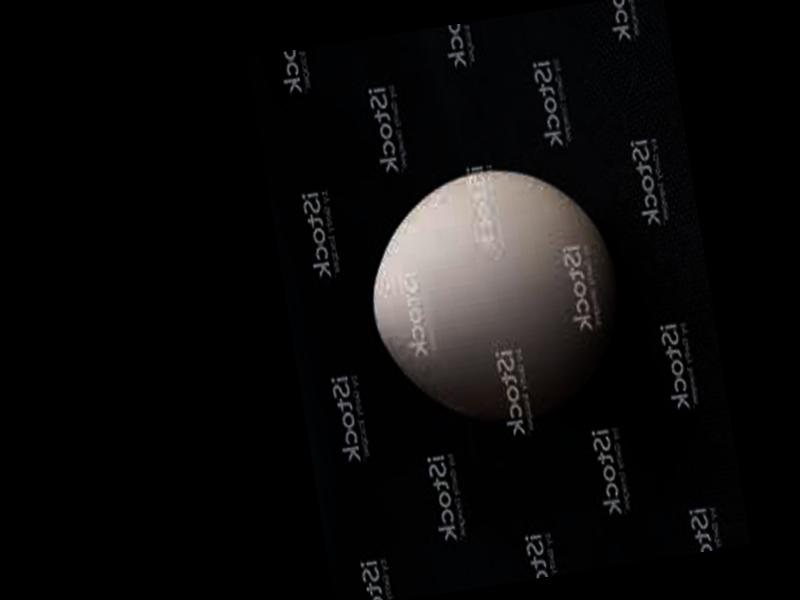Eggs: (354, 153, 637, 440)
